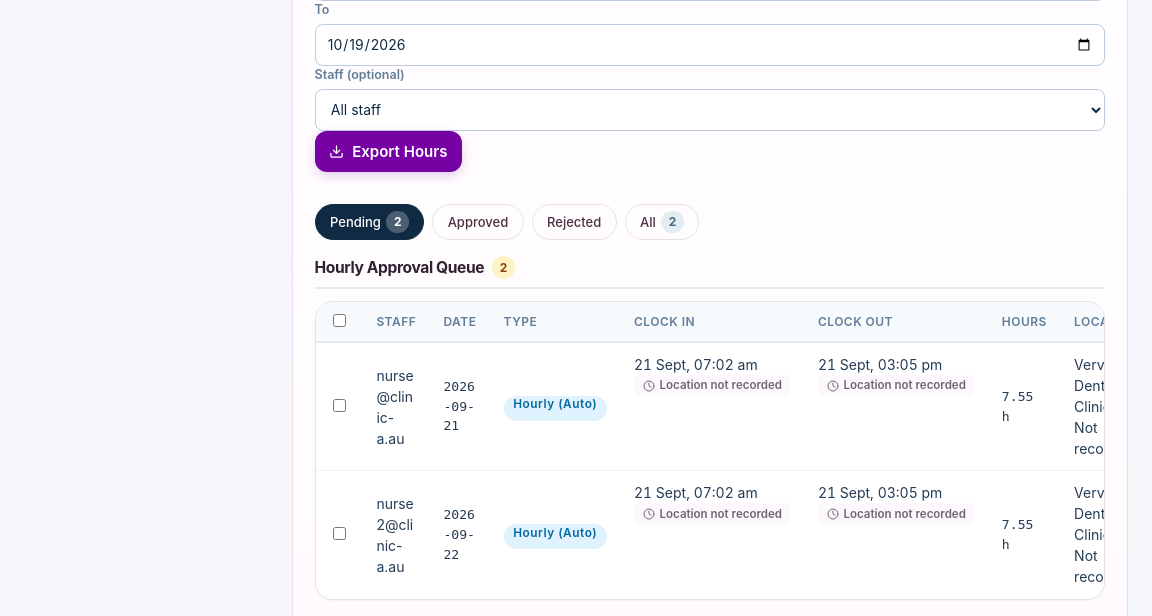
Scenario: ApprovalQueue — bulk approval flow › bulk approval shows confirmation panel with correct count before executing
(page scrolled)
Check: the cell "nurse@clinic-a.au" is shown, box [363,342,430,471]
Click the checkbox named "select all timesheets" at (340, 321), box [333,314,346,327]
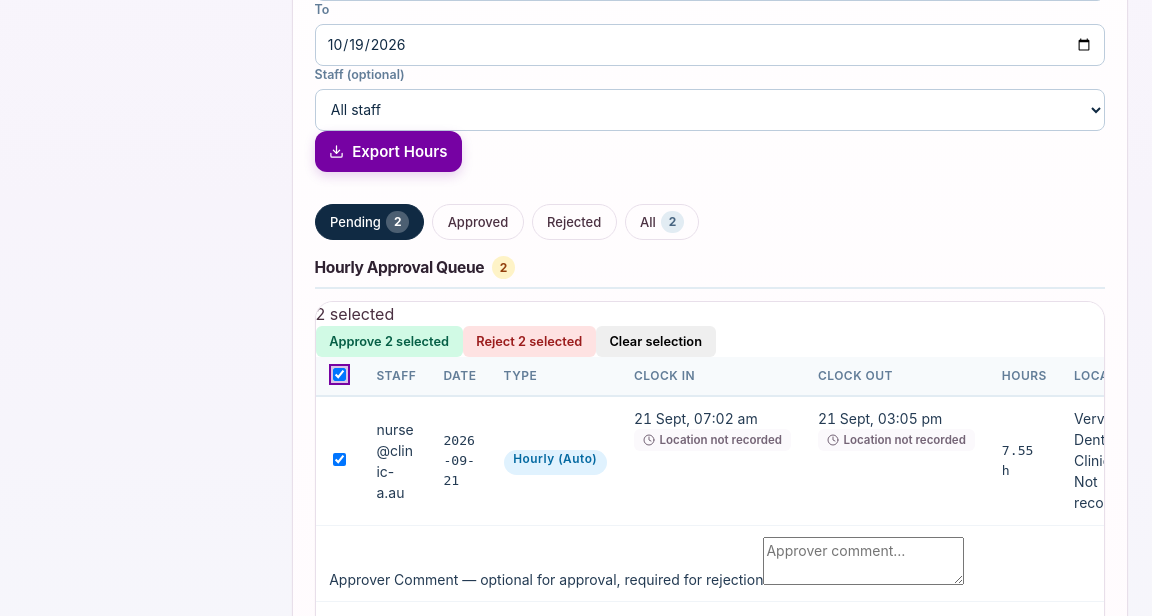
Click the button "Approve 2 selected" at (389, 342), box [316,326,463,357]
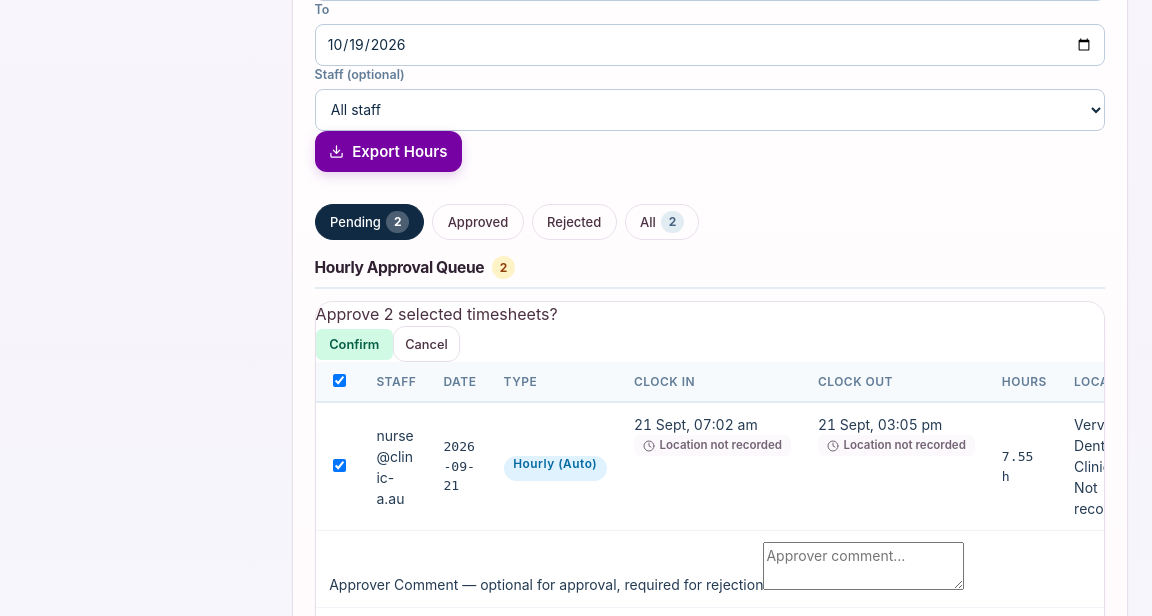
Check: the element named "confirm bulk approval" shows "Approve 2 selected timesheets", box [316,304,558,362]
